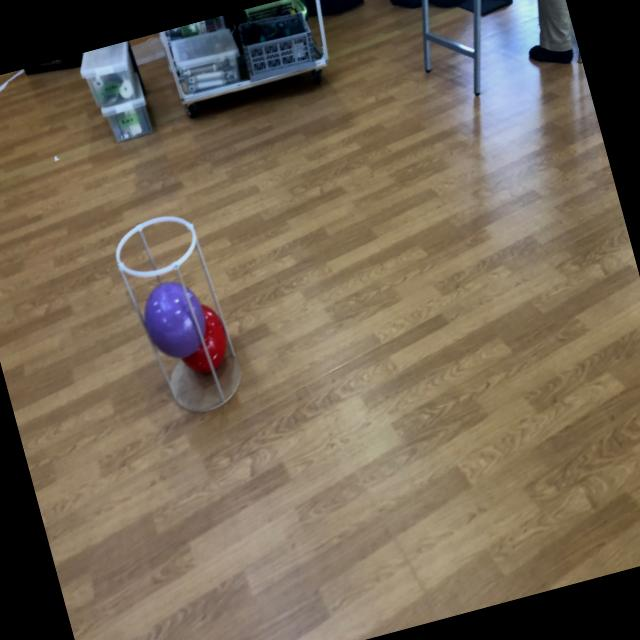purple_ball: (136, 276, 210, 362)
red_ball: (168, 300, 236, 378)
